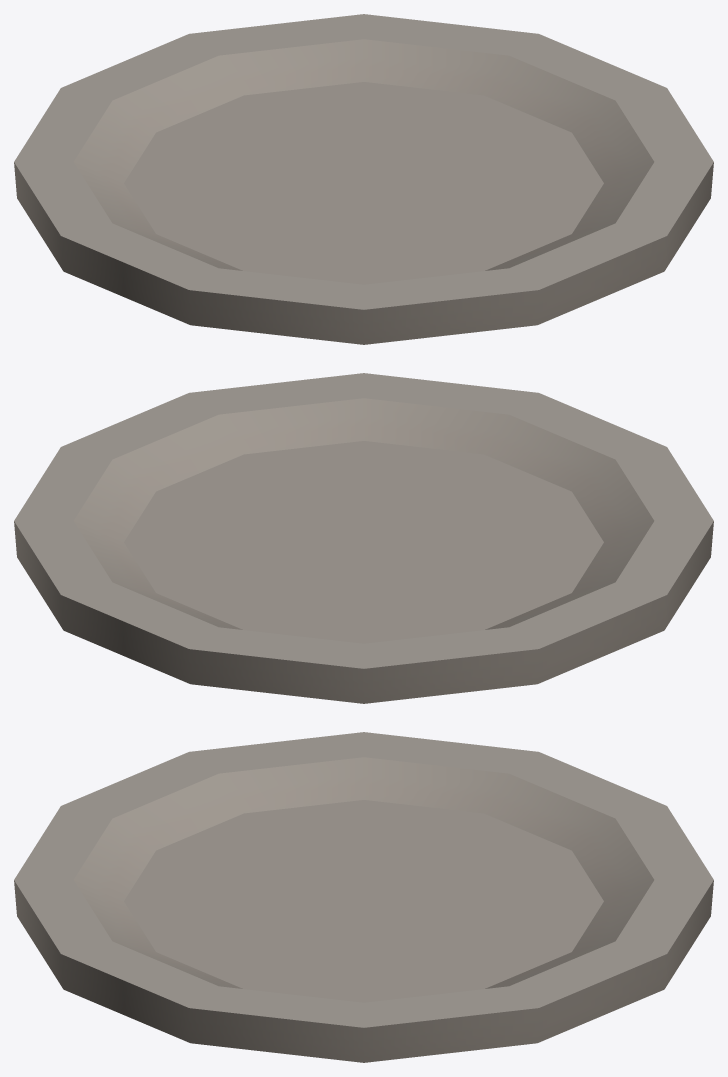
The model's file is plate.gltf.
3 renders of one model, top to bottom at view 1: azimuth 30°, elevation 25°; view 2: azimuth 150°, elevation 25°; view 3: azimuth 270°, elevation 25°, orthographic.
Visible parts, largest first — view 1: plate; view 2: plate; view 3: plate.
Boxes of the visible parts, x1=… form: plate: x1=14, y1=14, x2=713, y2=344; plate: x1=14, y1=373, x2=713, y2=703; plate: x1=14, y1=732, x2=713, y2=1062.
Size of the model in its own units: 0.9706 by 0.1294 by 0.9706.
Materials: 1 (1 with a texture image).
